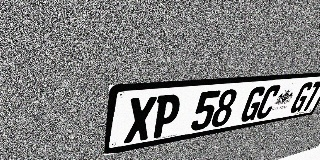5: (190, 90, 221, 132)
8: (209, 88, 240, 128)
C: (254, 85, 283, 120)
G: (238, 86, 268, 123), (288, 82, 315, 114)
P: (150, 94, 183, 139)
T: (300, 81, 320, 111)
X: (124, 96, 157, 144)
